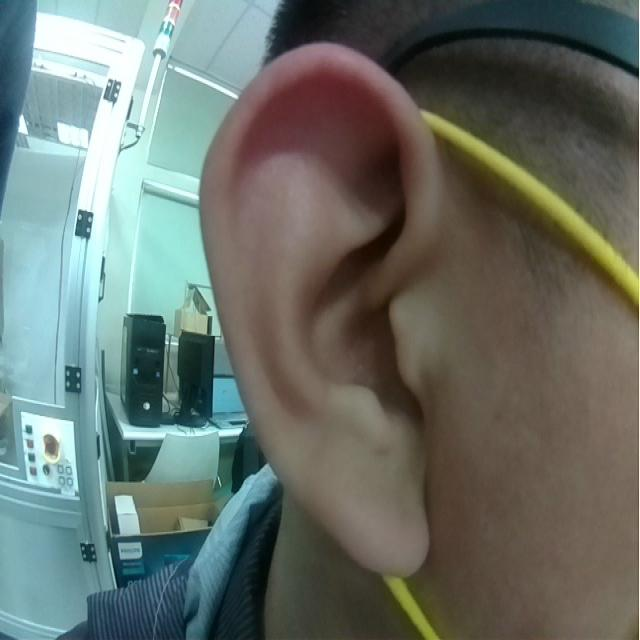no-earmuff: (197, 41, 445, 580)
